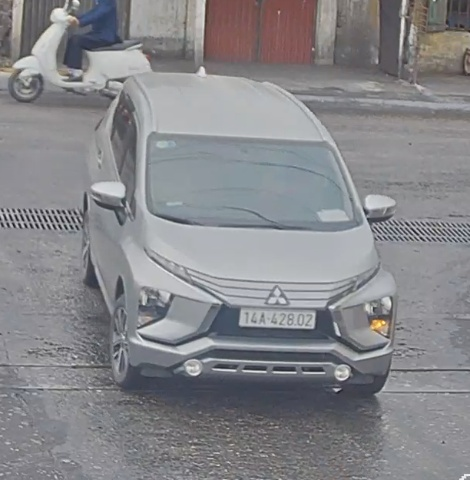vehicle plate: (235, 298, 320, 329)
